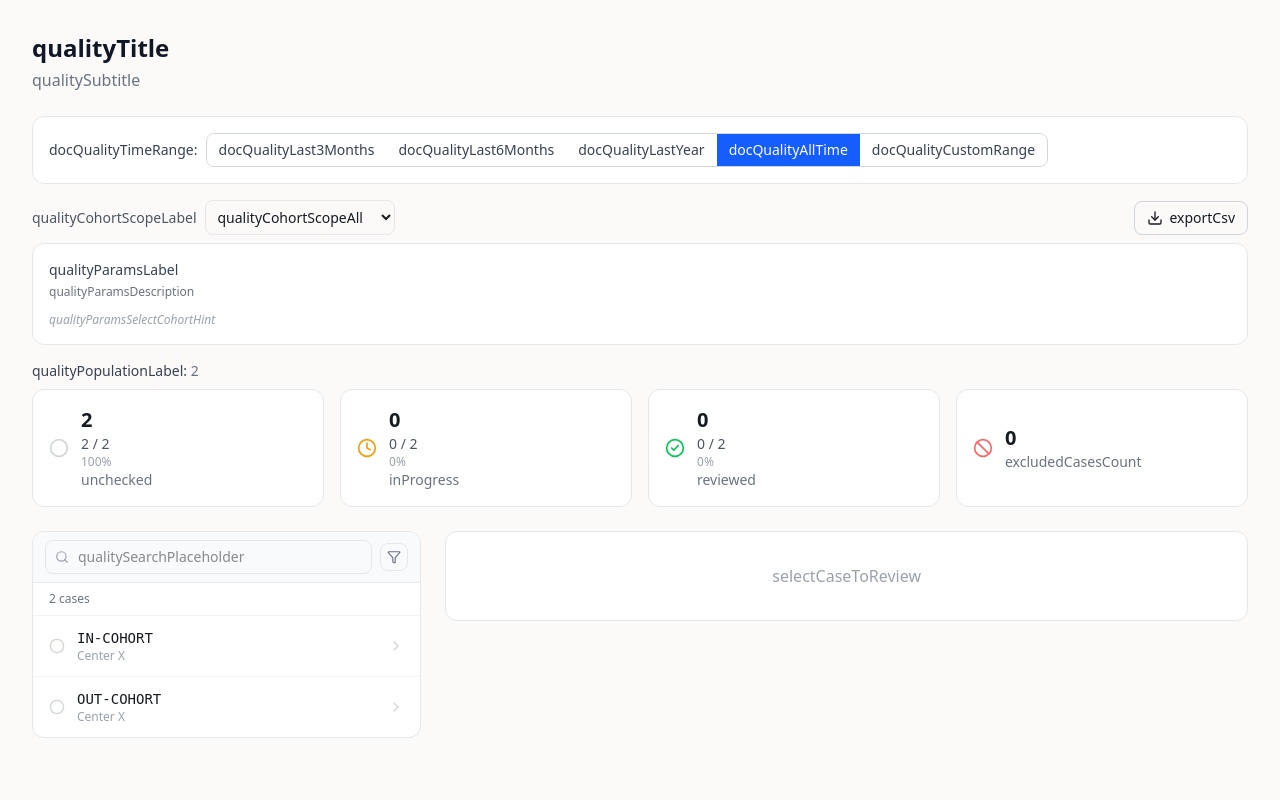
Test: QualityPage — CR-01 regression: flaggedQuality cohort wire-form round-trip › restoring "All cases" shows both cases again after flaggedQuality scope
Step 1. Select "Flagged Quality Cohort" in the dropdown → {"x": 300, "y": 218}, box [204,200,394,235]
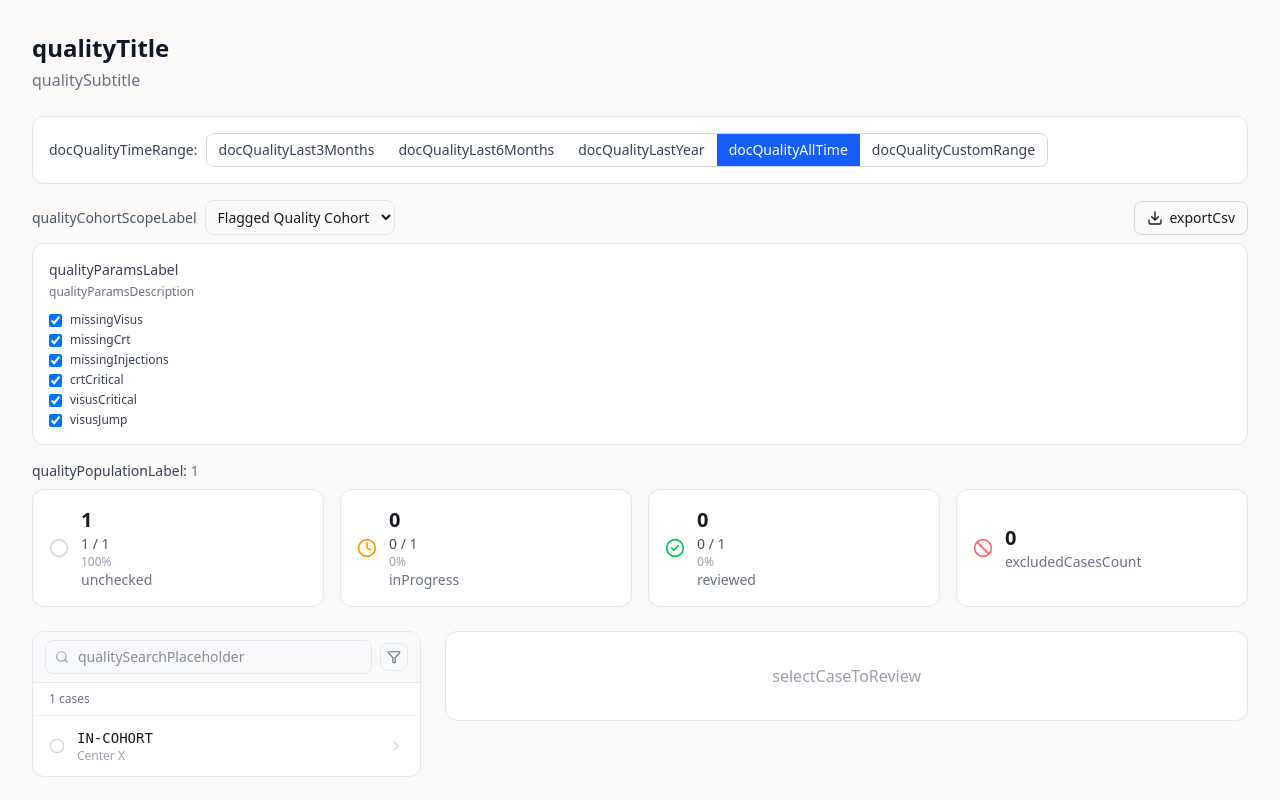
Check: the button "OUT-COHORT" is gone
Step 2. Select "qualityCohortScopeAll" in the dropdown → {"x": 300, "y": 218}, box [204,200,394,235]
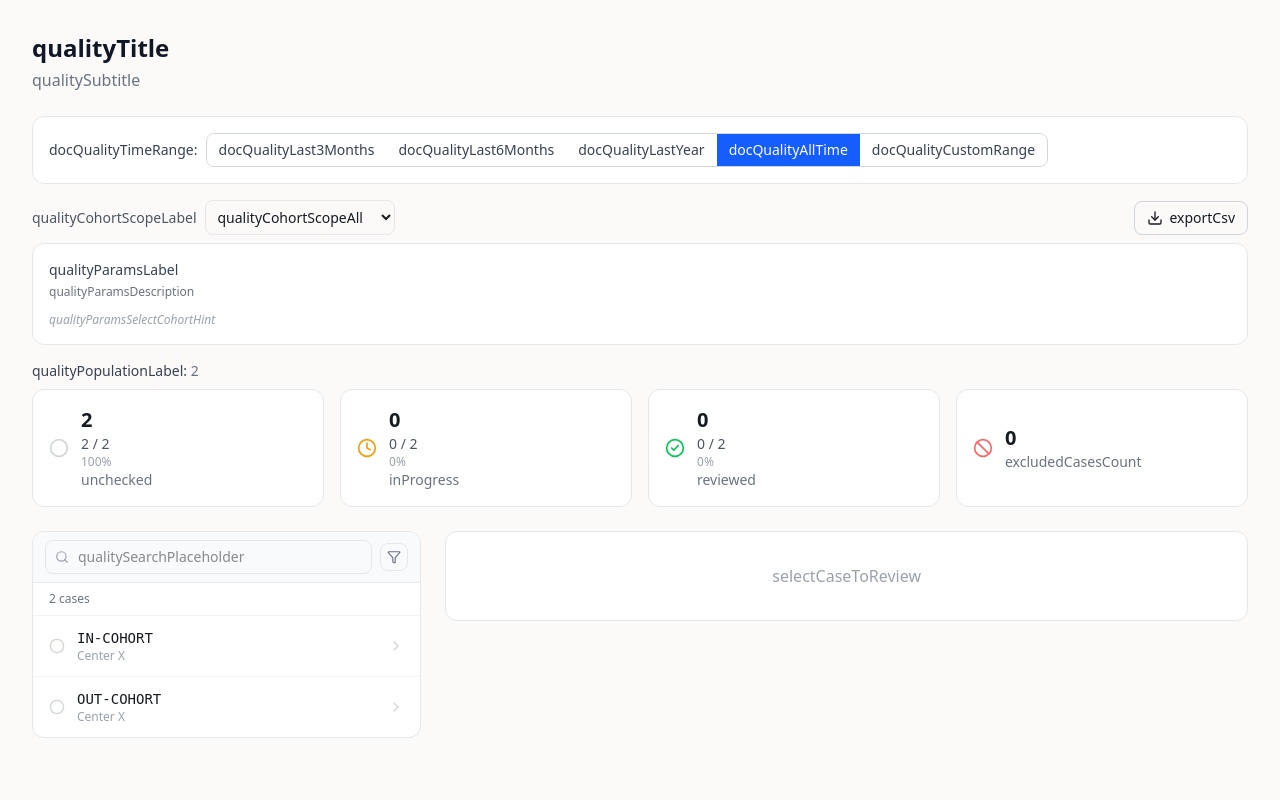
Check: the text "IN-COHORT" is shown, box [77,628,153,648]
Check: the text "OUT-COHORT" is shown, box [77,689,161,709]
